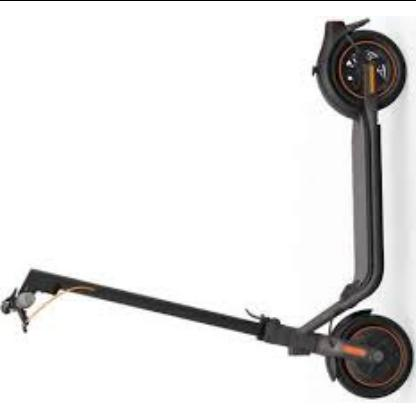bike: (0, 12, 416, 402), (5, 266, 414, 400)
car: (0, 15, 416, 405)
